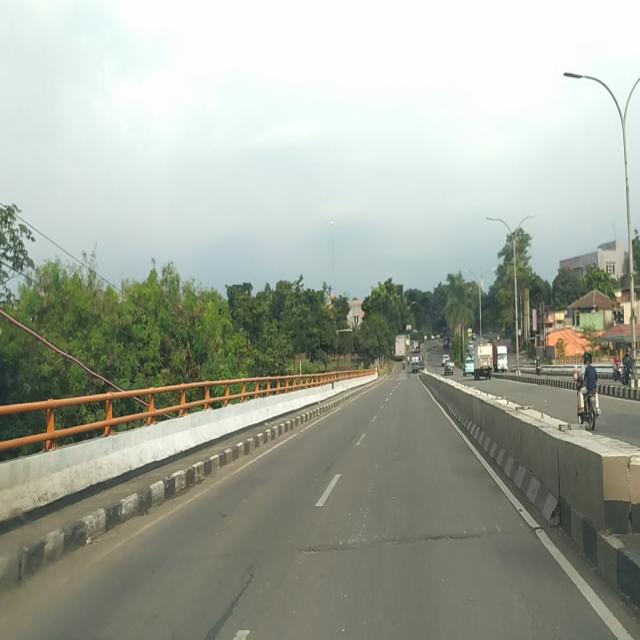Sewer Cover: (292, 529, 532, 558)
